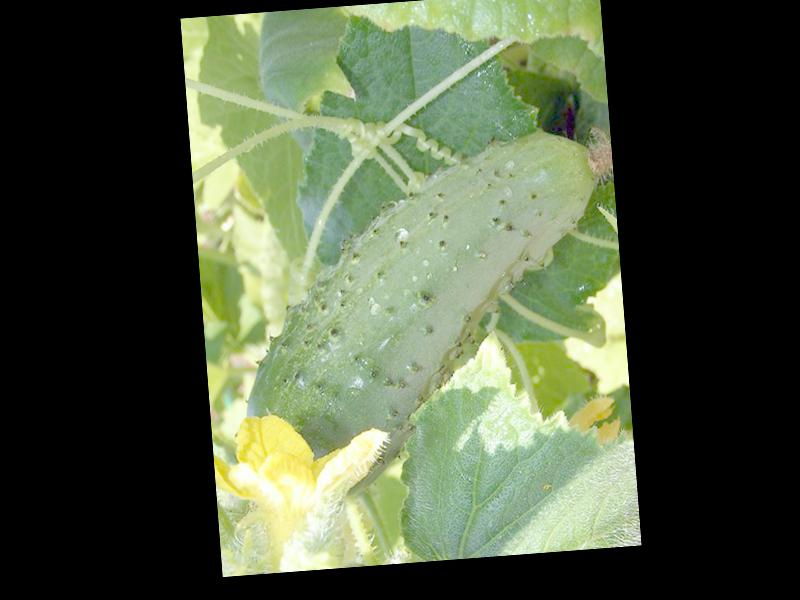Cucumber: (227, 126, 635, 503)
